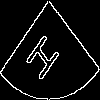H: (24, 25, 66, 84)
